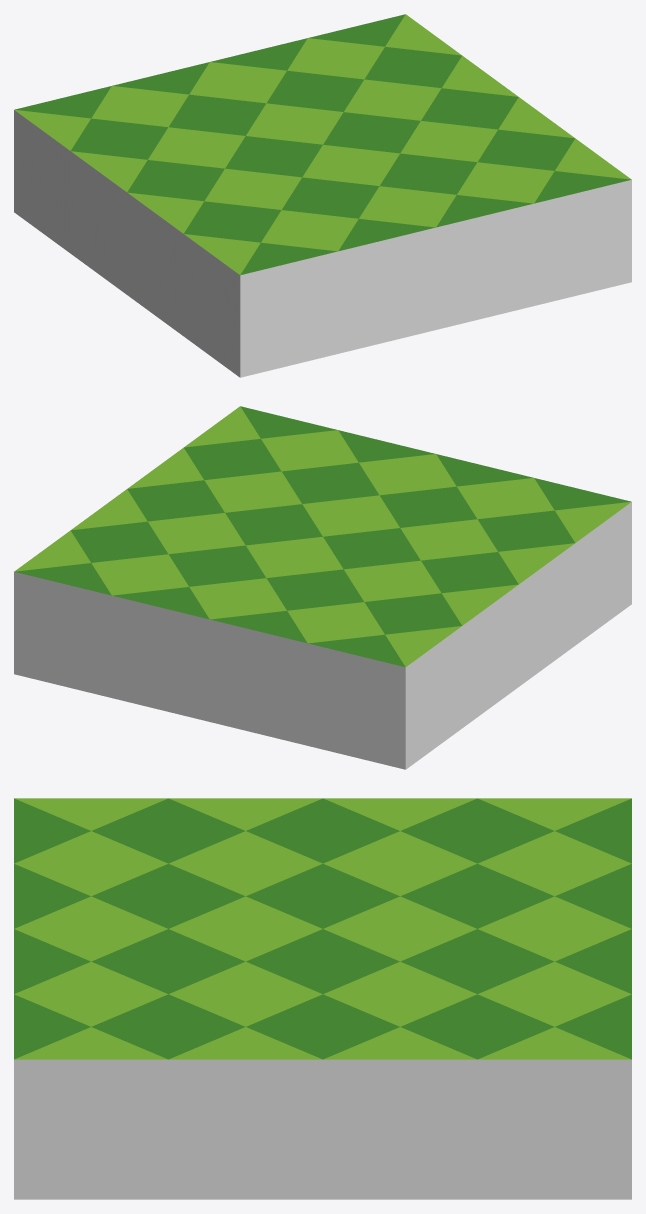
Rendered from Prop_GroundBase_06.fbx.
3 renders of one model, top to bottom at view 1: azimuth 30°, elevation 25°; view 2: azimuth 150°, elevation 25°; view 3: azimuth 270°, elevation 25°, orthographic. The views are drawn at different scales.
Parts seen in each view (by area): view 1: Prop_GroundBase_06; view 2: Prop_GroundBase_06; view 3: Prop_GroundBase_06.
Boxes of the visible parts, bbox=[...] form: Prop_GroundBase_06: bbox=[14, 14, 631, 377]; Prop_GroundBase_06: bbox=[14, 406, 631, 769]; Prop_GroundBase_06: bbox=[14, 798, 631, 1199].
Bounding box in the file's own units: 200 × 50 × 200.
